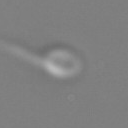normal: (1, 36, 45, 69)
